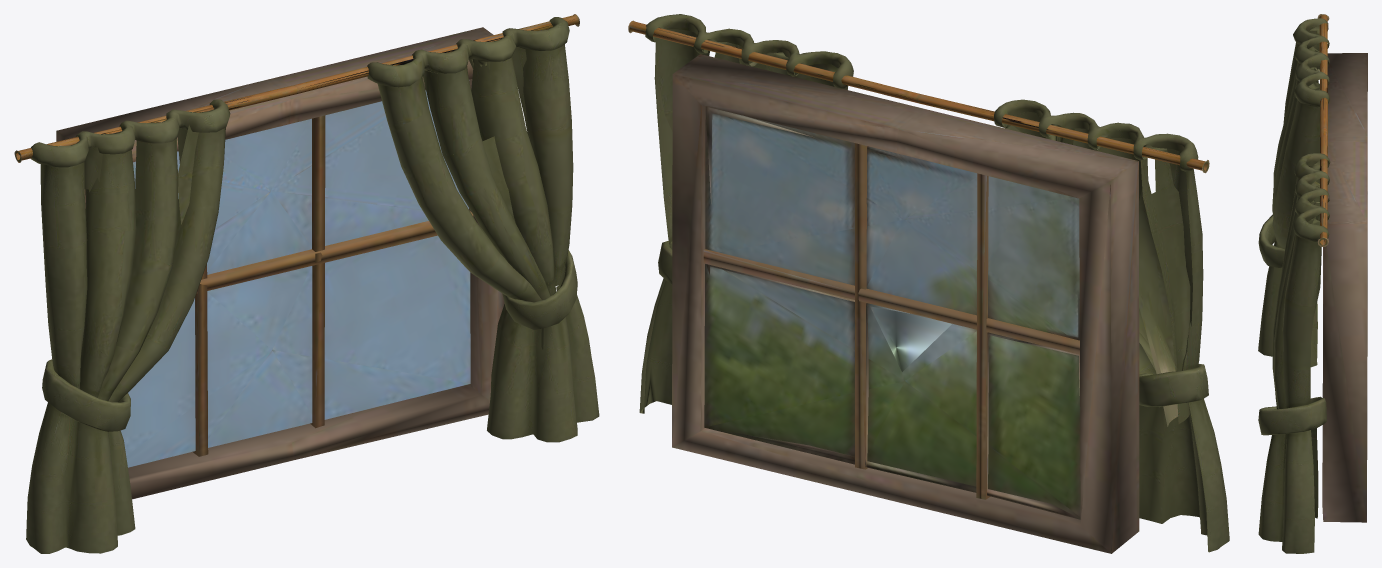
Rendered from green_curtains.glb.
The picture shows the model from 3 angles, left to right: view 1: azimuth 30°, elevation 25°; view 2: azimuth 150°, elevation 25°; view 3: azimuth 270°, elevation 25°; orthographic projection. The views are drawn at different scales.
Visible parts, largest first — view 1: geometry_0; view 2: geometry_0; view 3: geometry_0.
Boxes of the visible parts, left/top/right/bottom form: geometry_0: left=14, top=14, right=599, bottom=553; geometry_0: left=628, top=14, right=1229, bottom=553; geometry_0: left=1258, top=14, right=1367, bottom=553.
Size of the model in its own units: 1 by 0.6716 by 0.2074.
Materials: 1 (1 with a texture image).
